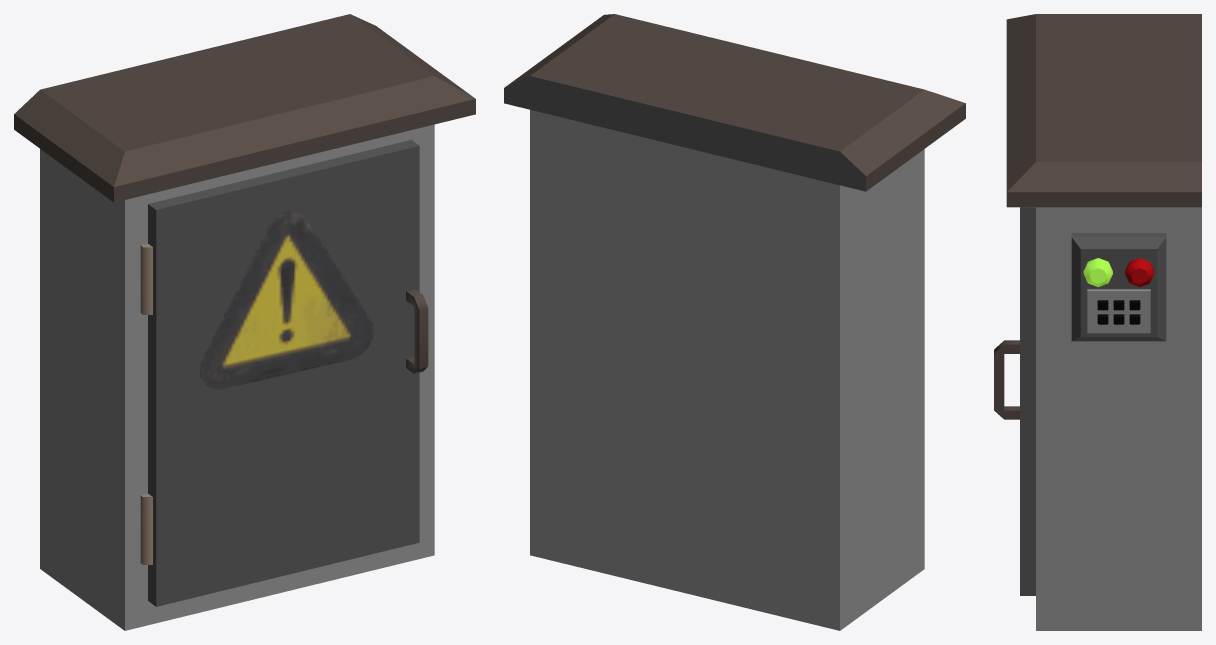
Rendered from ElectricBox.fbx.
3 views of the same model, side by side, from view 1: azimuth 30°, elevation 25°; view 2: azimuth 150°, elevation 25°; view 3: azimuth 270°, elevation 25° (orthographic). The views are drawn at different scales.
Parts seen in each view (by area): view 1: ElectricityBox_Door, ElectricityBox; view 2: ElectricityBox; view 3: ElectricityBox, ElectricityBox_Door.
Part boxes in pixels (<box>): ElectricityBox_Door: <box>140,140,428,606</box>; ElectricityBox: <box>14,14,475,630</box>; ElectricityBox: <box>504,14,965,630</box>; ElectricityBox: <box>1006,14,1201,630</box>; ElectricityBox_Door: <box>994,207,1035,595</box>.
Bounding box in the file's own units: 82.46 × 104 × 41.8.
